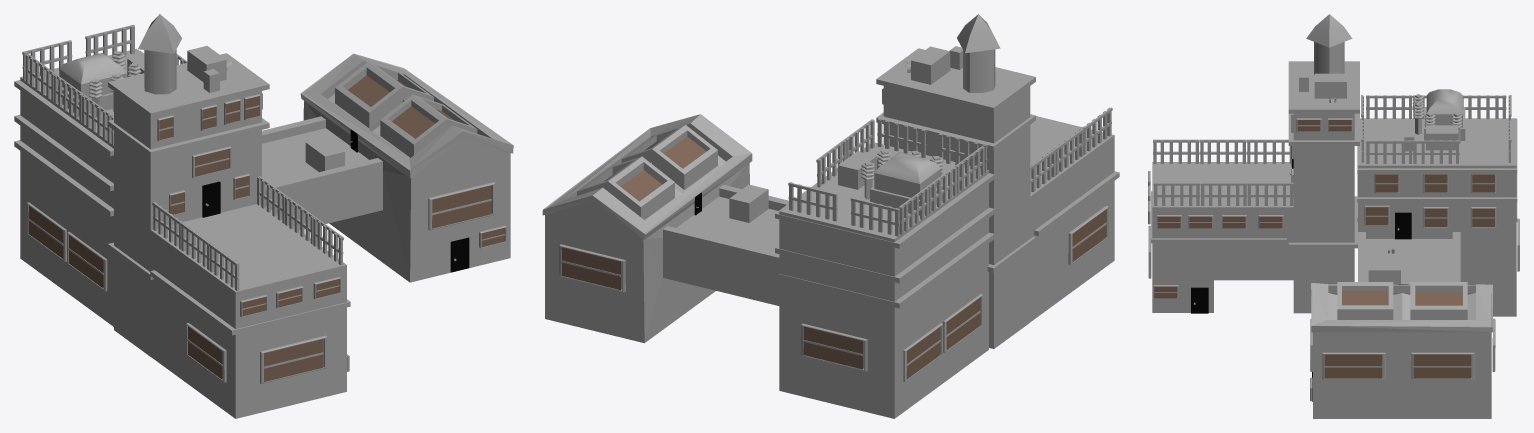
File: IndustrialAttached.fbx
3 renders of one model, left to right at view 1: azimuth 30°, elevation 25°; view 2: azimuth 150°, elevation 25°; view 3: azimuth 270°, elevation 25°, orthographic. The views are drawn at different scales.
Parts seen in each view (by area): view 1: pCube210, pCube219, pCube220, pCylinder72, polySurface726, polySurface734, pCube235, pCube223, polySurface730, polySurface732, polySurface733, pCube221 (+23 smaller); view 2: pCube210, pCube219, pCube220, pCube235, pCylinder72, polySurface729, polySurface735, pCube217, pCube216, pCube218, polySurface730, polySurface733 (+18 smaller); view 3: pCube210, pCube219, pCube220, polySurface728, polySurface727, pCylinder72, pCube235, pCube216, pCube217, pCube223, pCube233, pCube227 (+28 smaller).
Boxes of the visible parts, x1,y1,x2,y2 form: pCube210: (20,48,513,326); pCube219: (114,91,346,418); pCube220: (108,53,269,117); pCylinder72: (138,14,182,94); polySurface726: (428,182,495,230); polySurface734: (260,335,326,383); pCube235: (58,53,126,116); pCube223: (150,270,350,335); polySurface730: (186,323,226,382); polySurface732: (67,231,107,291); polySurface733: (27,202,66,261); pCube221: (108,118,269,156); pCube210: (542,114,988,418); pCube219: (883,86,1114,348); pCube220: (876,48,1035,112); pCube235: (870,152,942,215); pCylinder72: (957,14,1000,92); polySurface729: (559,244,625,292); polySurface735: (801,323,867,371); pCube217: (775,207,994,283); pCube216: (775,144,994,248); pCube218: (779,232,994,308); polySurface730: (1068,205,1108,264); polySurface733: (903,323,942,382); pCube210: (1311,118,1516,418); pCube219: (1152,113,1354,313); pCube220: (1288,61,1359,113); polySurface728: (1411,352,1474,379); polySurface727: (1322,352,1385,379); pCylinder72: (1306,14,1352,74); pCube235: (1424,89,1465,140); pCube216: (1357,119,1517,173); pCube217: (1357,174,1517,202); pCube223: (1151,191,1286,243); pCube233: (1314,73,1346,98); pCube227: (1153,139,1199,163).
Size of the model in its own units: 140 by 113 by 143.
